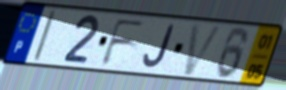2: (61, 13, 101, 68)
6: (214, 26, 249, 81)
F: (98, 17, 148, 67)
I: (31, 9, 59, 63)
J: (141, 24, 176, 70)
V: (181, 23, 226, 78)
